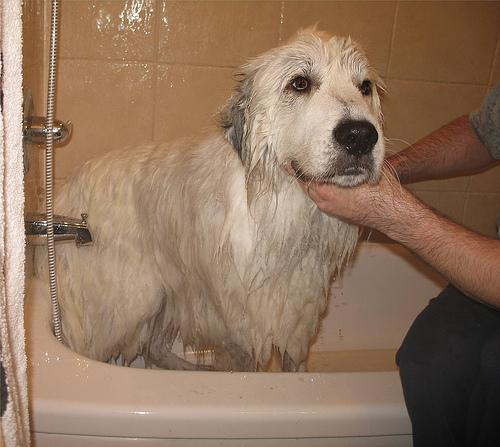Great_Pyrenees: (29, 29, 383, 373)
